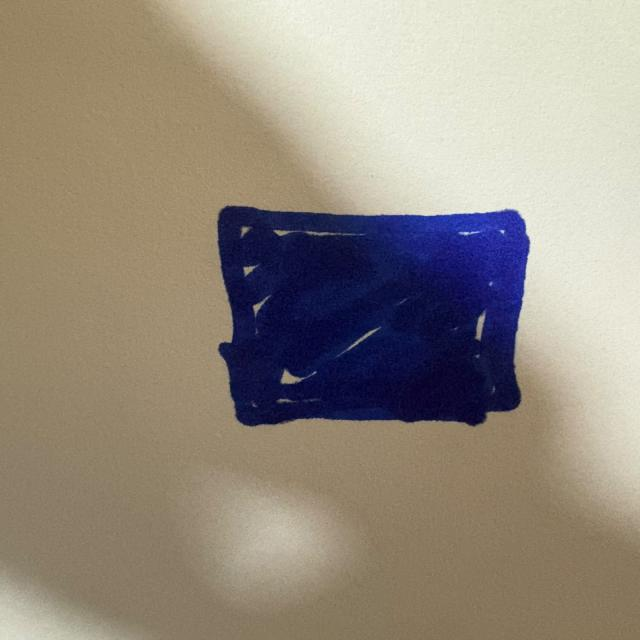Square: (218, 207, 529, 426)
